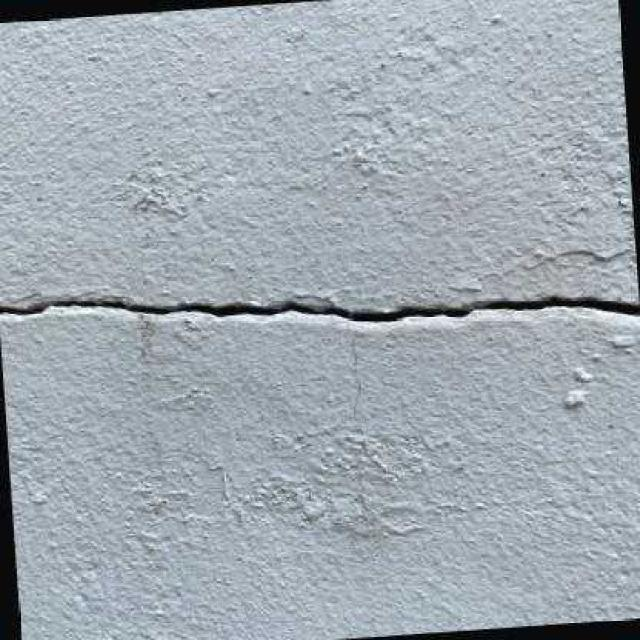D00: (0, 296, 640, 321)
